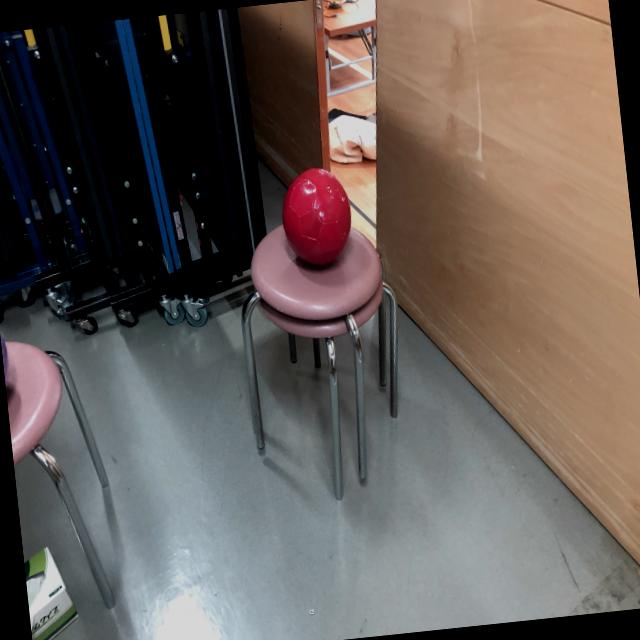red_ball: (279, 165, 355, 266)
